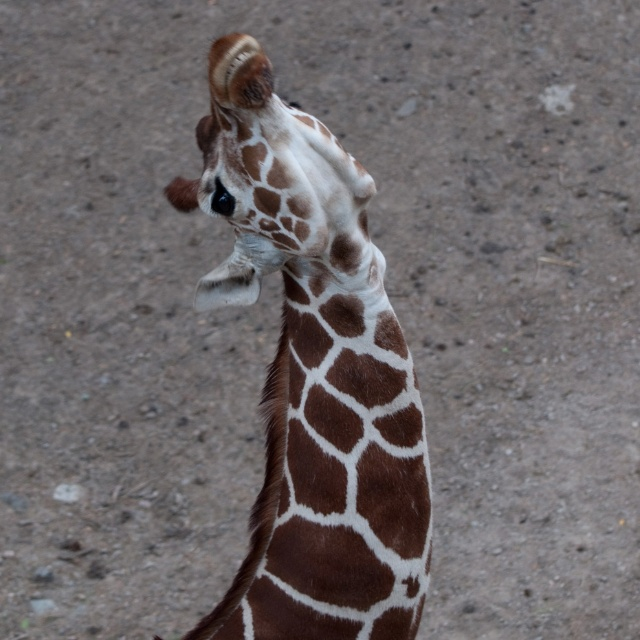Giraffe: (179, 32, 430, 640)
